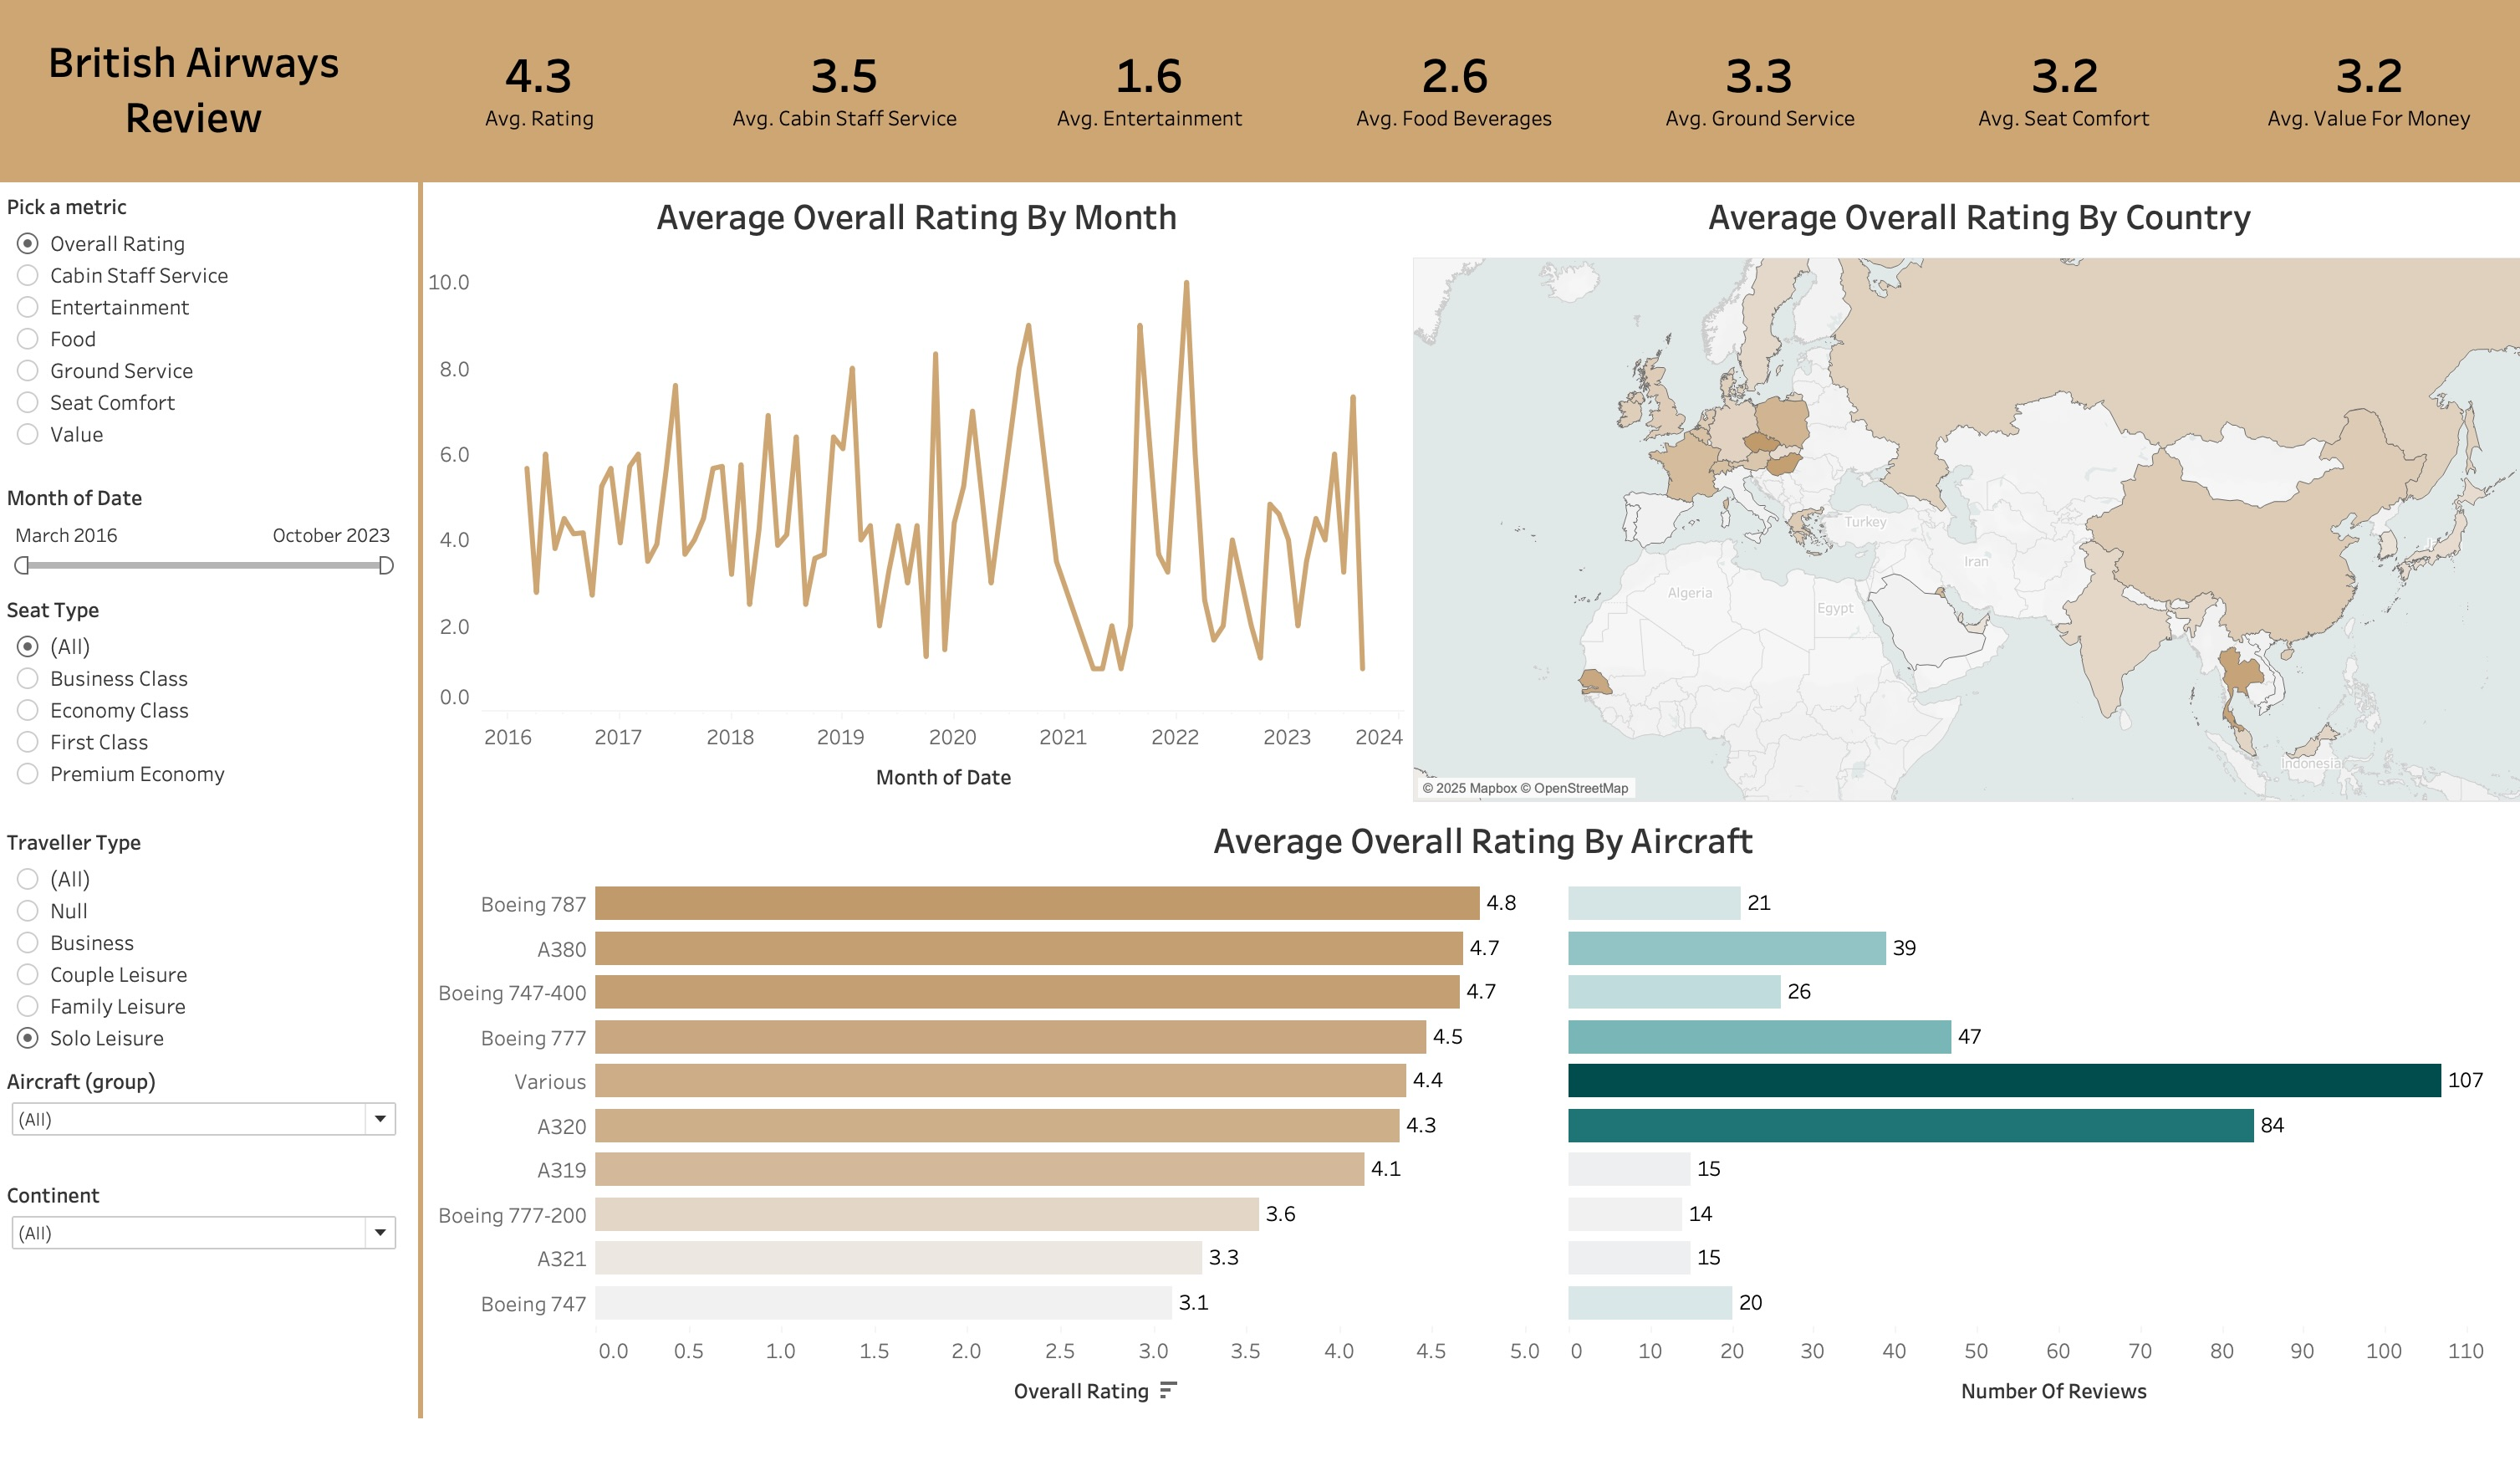

Layout of this report page (visuals, bound fields, positions):
{"tool":"tableau","page":{"name":"Dashboard 1","canvas":[1000,1000],"units":"permille","ordinal":0},"visuals":[{"type":"text","box":[0,0,153.7,126.9]},{"type":"worksheet","title":"Summary","mark":"Automatic","box":[153.7,0,844.7,126.9]},{"type":"blank","box":[165.3,123.1,2.3,845.2]},{"type":"parameter","param":"[Parameters].[Parameter 1]","box":[0,129.4,161.4,166.4]},{"type":"worksheet","title":"Month","mark":"Automatic","rows":["Calculation_298433844258537472"],"cols":["date"],"box":[169.1,129.4,386.6,420.1]},{"type":"filter","title":"Map","param":"[federated.1it373k0olt2hh1gejh4n0ci26yd].[tmn:date:qk]","box":[0,295.9,161.4,107.2]},{"type":"filter","title":"Map","param":"[federated.1it373k0olt2hh1gejh4n0ci26yd].[none:seat_type:nk]","box":[0,403.1,161.4,166.4]},{"type":"worksheet","title":"Aircraft","mark":"Automatic","cols":["Calculation_298433844258537472","ba_reviews.csv_5EA7C5962C904C4E91A62EEC0BE78DA4"],"box":[169.1,554.6,835.5,412.4]},{"type":"filter","title":"Map","param":"[federated.1it373k0olt2hh1gejh4n0ci26yd].[none:traveller_type:nk]","box":[0,569.5,161.4,166.4]},{"type":"filter","title":"Map","param":"[federated.1it373k0olt2hh1gejh4n0ci26yd].[Aircraft (group)]","box":[0,735.9,161.4,108.8]},{"type":"filter","title":"Map","param":"[federated.1it373k0olt2hh1gejh4n0ci26yd].[none:Continent:nk]","box":[0,844.7,161.4,124.8]}]}

Visuals, with their boxes on the dashboard's canvas, which has no fixed pixel size, in thousandths of its width and height (x1, y1, x2, y2). These are canvas units, not pixel positions in the 2520x1461 screenshot, which may show the page scaled, cropped or inside an application window:
text: BBox(0, 0, 154, 127)
"Summary" worksheet: BBox(154, 0, 998, 127)
blank: BBox(165, 123, 168, 968)
parameter: BBox(0, 129, 161, 296)
"Month" worksheet: BBox(169, 129, 556, 550)
"Map" filter: BBox(0, 296, 161, 403)
"Map" filter: BBox(0, 403, 161, 570)
"Aircraft" worksheet: BBox(169, 555, 1005, 967)
"Map" filter: BBox(0, 570, 161, 736)
"Map" filter: BBox(0, 736, 161, 845)
"Map" filter: BBox(0, 845, 161, 970)
